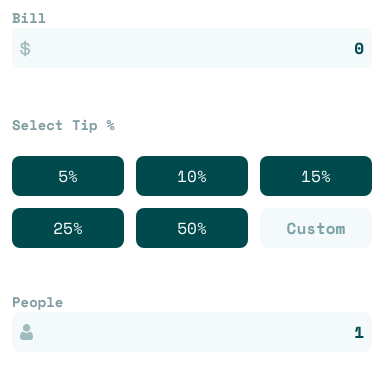
Test: Calculator › should respond to tip button change
Click the button "5%": coordinates (68, 176) [12,156,124,196]
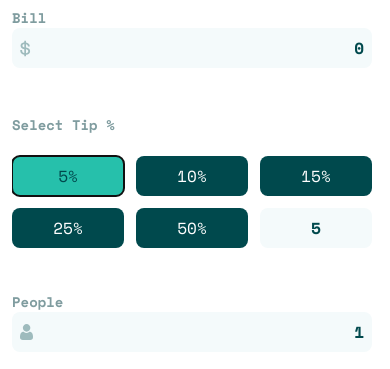
Check: the number field with placeholder "Custom" holds "5", box [260,208,372,248]
Click the button "10%": coordinates (192, 176) [136,156,248,196]
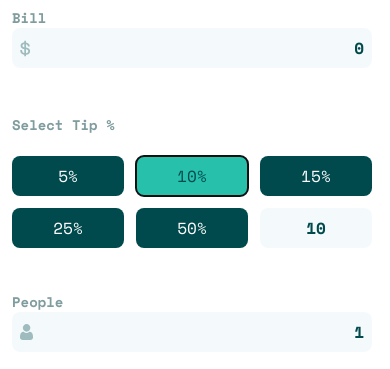
Check: the number field with placeholder "Custom" holds "10", box [260,208,372,248]
Click the button "15%": coordinates (316, 176) [260,156,372,196]
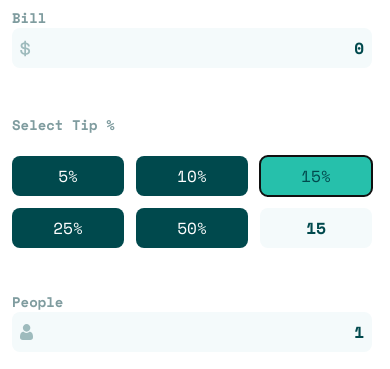
Check: the number field with placeholder "Custom" holds "15", box [260,208,372,248]
Click the button "25%": coordinates (68, 228) [12,208,124,248]
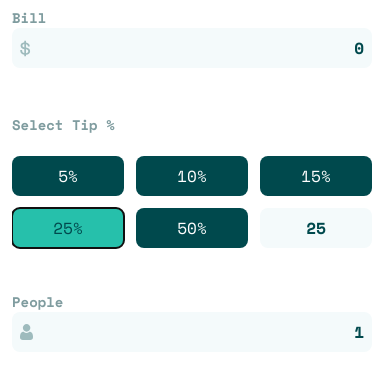
Check: the number field with placeholder "Custom" holds "25", box [260,208,372,248]
Click the button "50%": coordinates (192, 228) [136,208,248,248]
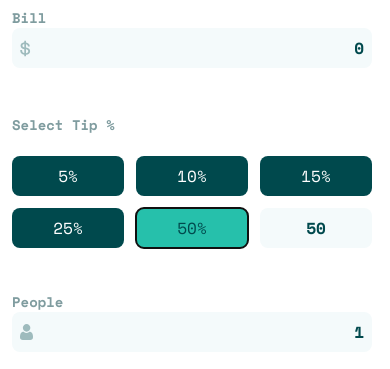
Check: the number field with placeholder "Custom" holds "50", box [260,208,372,248]
